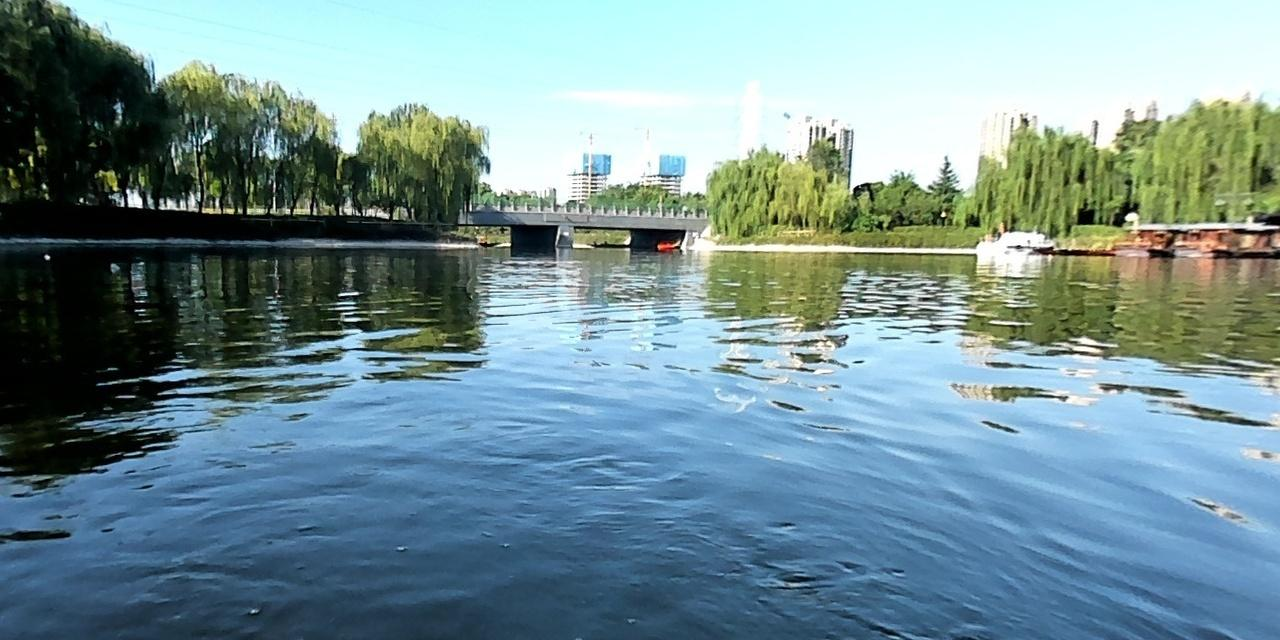bottle: (106, 261, 121, 272)
